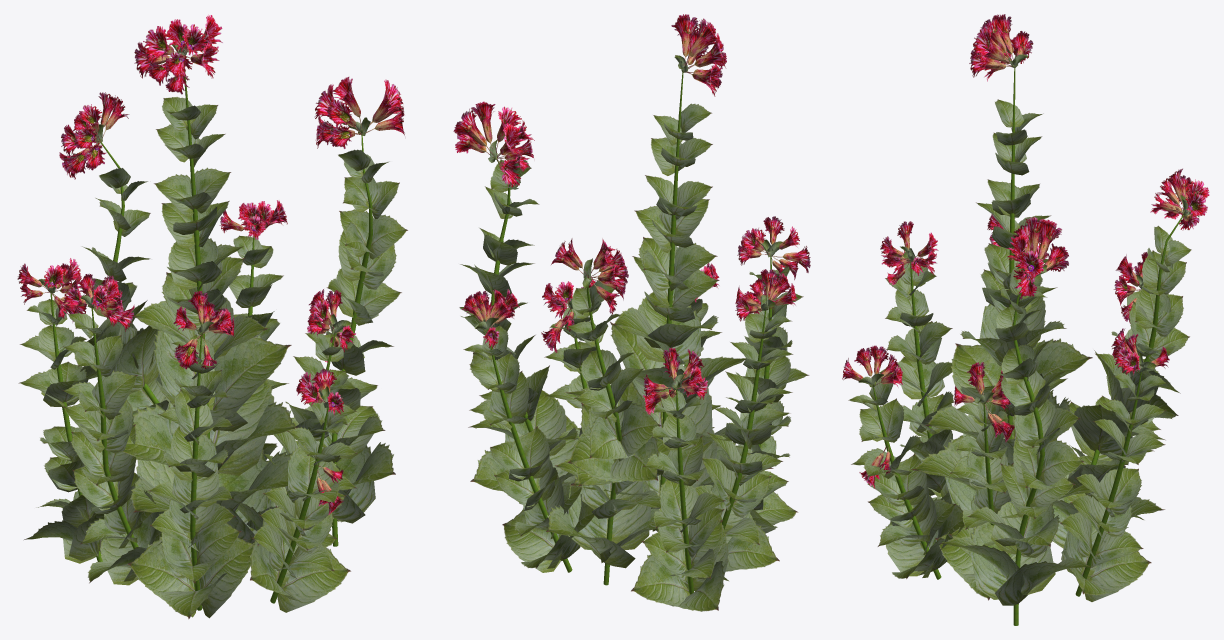
Rendered from Bee_Balm.glb.
3 views of the same model, side by side, from view 1: azimuth 30°, elevation 25°; view 2: azimuth 150°, elevation 25°; view 3: azimuth 270°, elevation 25° (orthographic). The views are drawn at different scales.
Visible parts, largest first — view 1: Leaf_2_spring_3.001, Flower_Blue_spring_1.001, Bark_spring_0.001; view 2: Leaf_2_spring_3.001, Flower_Blue_spring_1.001, Bark_spring_0.001; view 3: Leaf_2_spring_3.001, Flower_Blue_spring_1.001, Bark_spring_0.001.
Part boxes in pixels (left/top/right/bottom): Leaf_2_spring_3.001: left=18, top=44, right=407, bottom=619; Flower_Blue_spring_1.001: left=17, top=15, right=404, bottom=514; Bark_spring_0.001: left=50, top=71, right=372, bottom=610; Leaf_2_spring_3.001: left=459, top=55, right=809, bottom=611; Flower_Blue_spring_1.001: left=453, top=14, right=810, bottom=414; Bark_spring_0.001: left=489, top=72, right=772, bottom=594; Leaf_2_spring_3.001: left=848, top=54, right=1199, bottom=605; Flower_Blue_spring_1.001: left=842, top=14, right=1209, bottom=489; Bark_spring_0.001: left=873, top=68, right=1183, bottom=625.
Size of the model in its own units: 2.69 by 4.2 by 2.62.
Materials: 3 (3 with a texture image).
